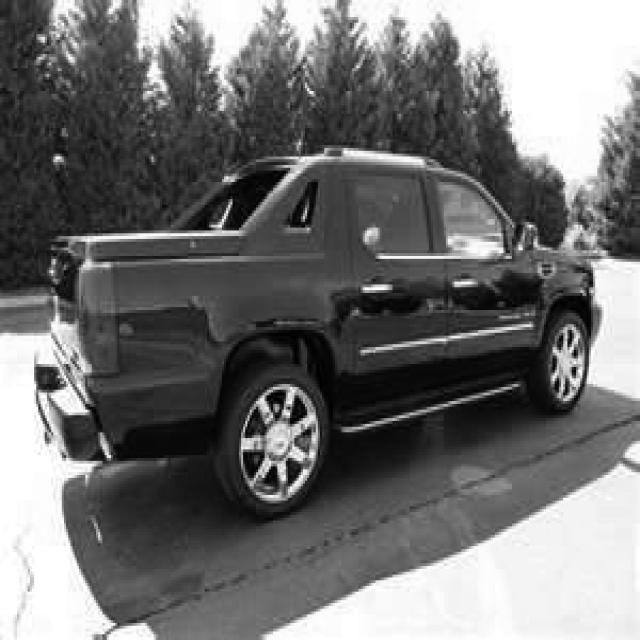car: (32, 142, 602, 518)
